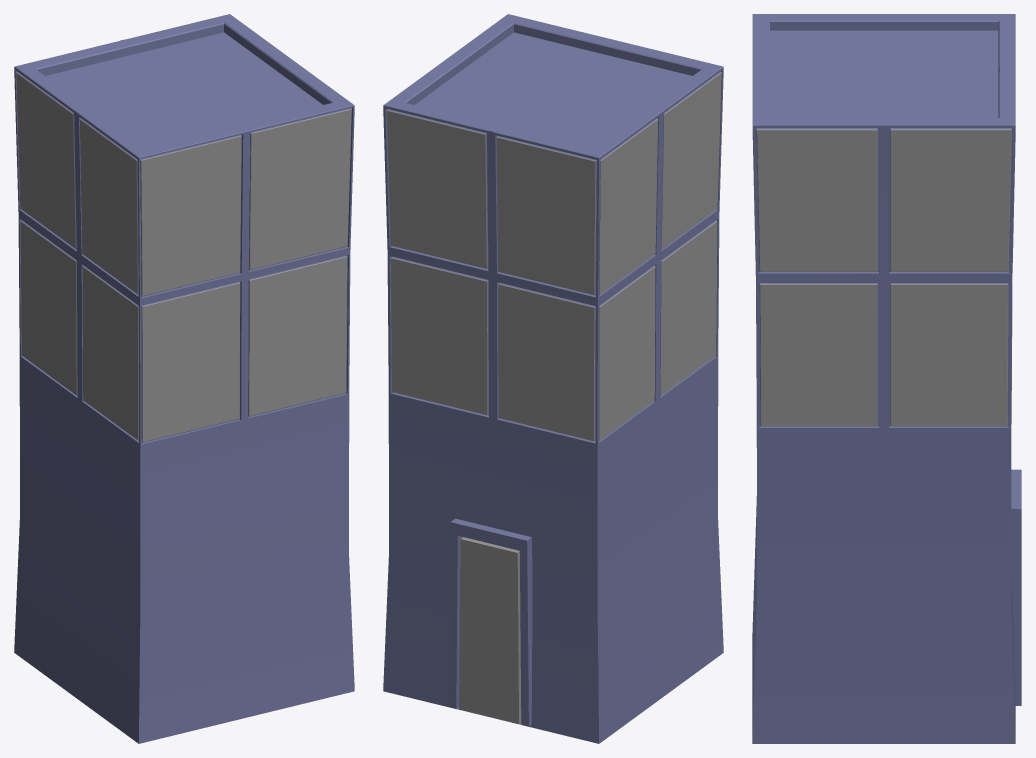
File: Building_02.fbx
3 views of the same model, side by side, from view 1: azimuth 30°, elevation 25°; view 2: azimuth 150°, elevation 25°; view 3: azimuth 270°, elevation 25° (orthographic). The views are drawn at different scales.
Parts seen in each view (by area): view 1: Building_02; view 2: Building_02; view 3: Building_02.
Boxes of the visible parts, x1=… form: Building_02: x1=14, y1=14, x2=354, y2=743; Building_02: x1=383, y1=14, x2=723, y2=743; Building_02: x1=752, y1=14, x2=1021, y2=743.
Size of the model in its own units: 366 by 948 by 373.
